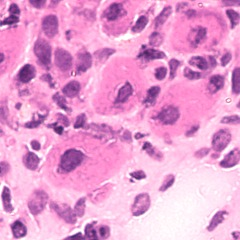New: (39, 130, 127, 192), (87, 50, 153, 119), (148, 79, 213, 140), (165, 8, 231, 53), (94, 1, 154, 40), (1, 20, 28, 81)
